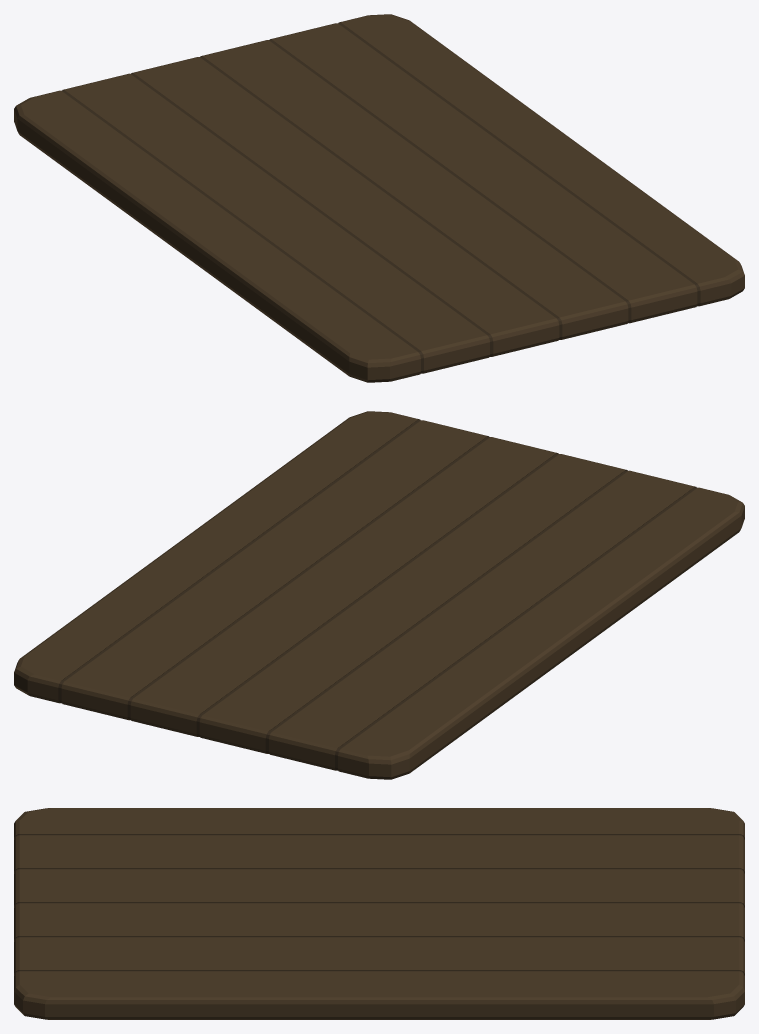
Rendered from Board_1.fbx.
3 renders of one model, top to bottom at view 1: azimuth 30°, elevation 25°; view 2: azimuth 150°, elevation 25°; view 3: azimuth 270°, elevation 25°, orthographic.
Parts seen in each view (by area): view 1: Board_1; view 2: Board_1; view 3: Board_1.
Part boxes in pixels (x1=…): Board_1: x1=14, y1=14, x2=744, y2=382; Board_1: x1=14, y1=411, x2=744, y2=779; Board_1: x1=14, y1=808, x2=744, y2=1019.
Bounding box in the file's own units: 37.66 × 2.07 × 60.28.
